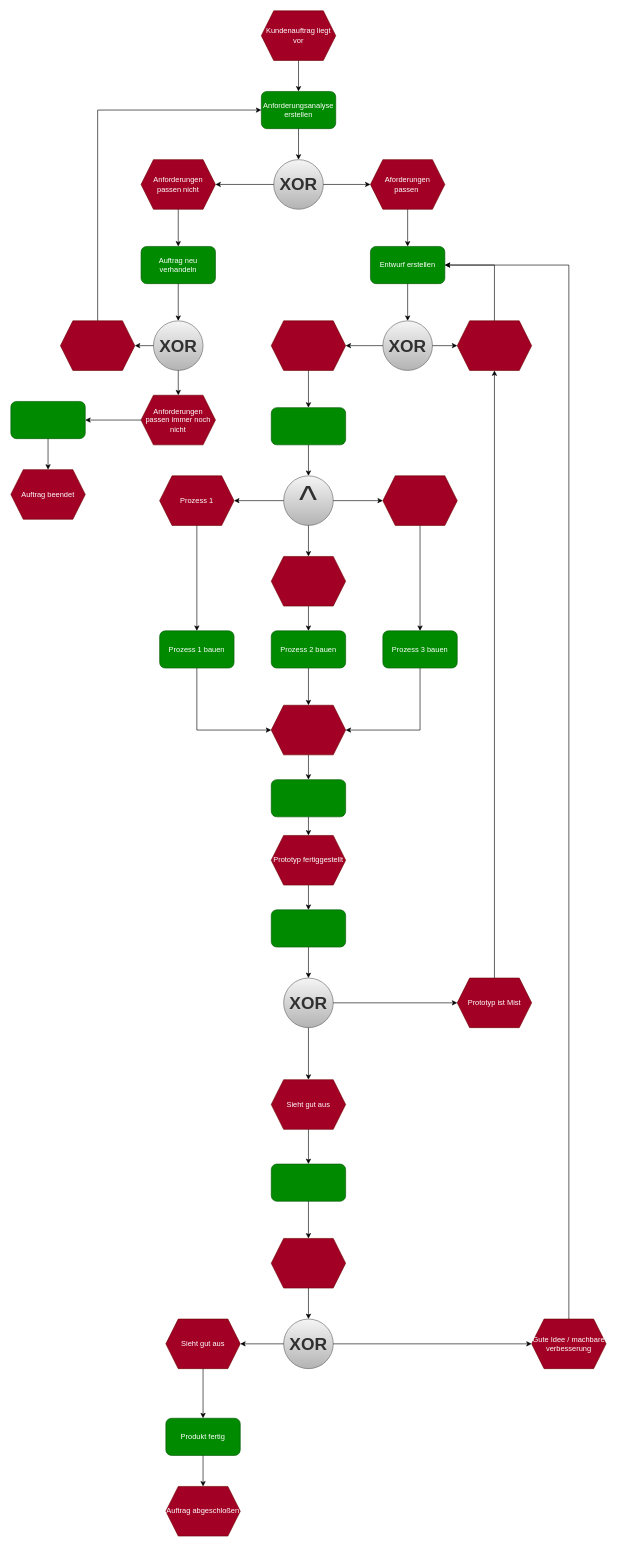
Some shapes in this 617 by 1547 pixel diagram are drawn without their labels. The centre of each missing label's shape, as x and y in pixels:
Alle prozesse abgeschloßen?: pixel 308 730
Auftrag beenden: pixel 47 420
Entwurf passt: pixel 308 345
Entwurf passt nicht: pixel 494 345
Implementierung starten: pixel 308 426
Kunden Feedback: pixel 308 1263
Neue Anforderungen: pixel 97 345
Produkt fertigen und ausrollen: pixel 308 1182
Prototypen bauen: pixel 308 798
Prototypen testen: pixel 308 928
Prozess 2: pixel 308 581
Prozess 3: pixel 419 500
